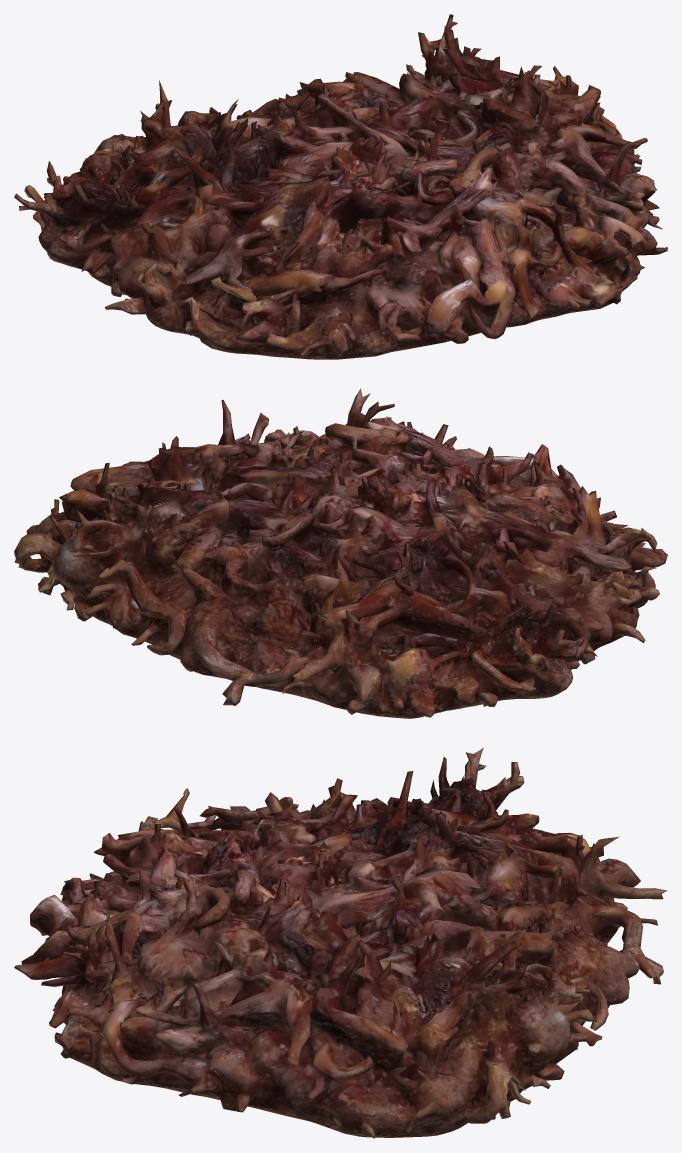
File: Charque.glb
3 renders of one model, top to bottom at view 1: azimuth 30°, elevation 25°; view 2: azimuth 150°, elevation 25°; view 3: azimuth 270°, elevation 25°, orthographic. The views are drawn at different scales.
Visible parts, largest first — view 1: tripo_node_75e4debf-8b91-497f-9781-00c31631ec92; view 2: tripo_node_75e4debf-8b91-497f-9781-00c31631ec92; view 3: tripo_node_75e4debf-8b91-497f-9781-00c31631ec92.
Boxes of the visible parts, x1,y1,x2,y2 form: tripo_node_75e4debf-8b91-497f-9781-00c31631ec92: (14, 14, 667, 359); tripo_node_75e4debf-8b91-497f-9781-00c31631ec92: (14, 388, 667, 718); tripo_node_75e4debf-8b91-497f-9781-00c31631ec92: (14, 747, 667, 1138).
Size of the model in its own units: 1 by 0.2596 by 0.8737.
1 material, 1 textured.
